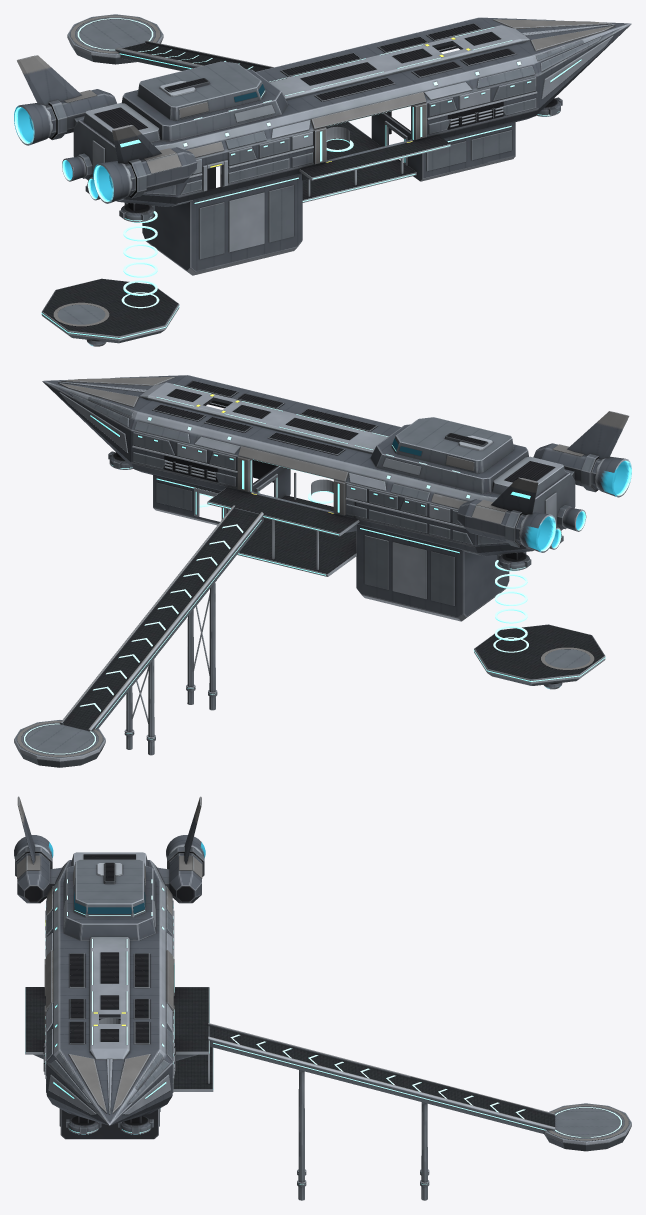
The model's file is models.glb.
3 renders of one model, top to bottom at view 1: azimuth 30°, elevation 25°; view 2: azimuth 150°, elevation 25°; view 3: azimuth 270°, elevation 25°, orthographic. The views are drawn at different scales.
Parts seen in each view (by area): view 1: reefbreak-ship; view 2: reefbreak-ship; view 3: reefbreak-ship.
Boxes of the visible parts, box(x1,y1,x2,y2) form: reefbreak-ship: box(14, 14, 631, 346); reefbreak-ship: box(14, 375, 631, 767); reefbreak-ship: box(14, 796, 631, 1200).
Size of the model in its own units: 83.03 by 37.05 by 80.46.
1 material, 1 textured.
